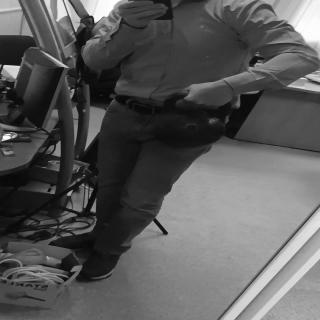girya: (147, 92, 231, 149)
